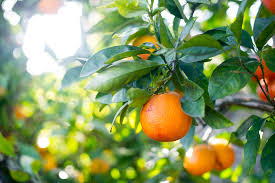orange: (134, 90, 196, 141), (182, 142, 216, 178), (208, 138, 237, 170)
